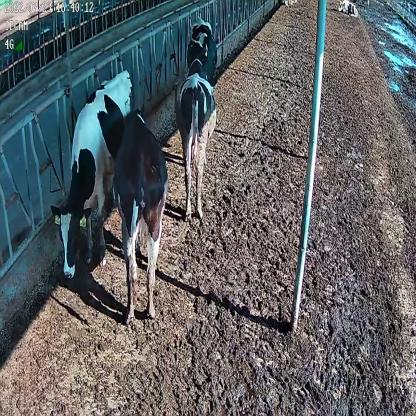cow: (49, 65, 134, 286), (111, 101, 170, 322), (177, 38, 217, 221), (338, 0, 360, 20)
